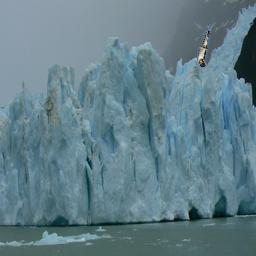Swallow: (198, 25, 211, 68)
